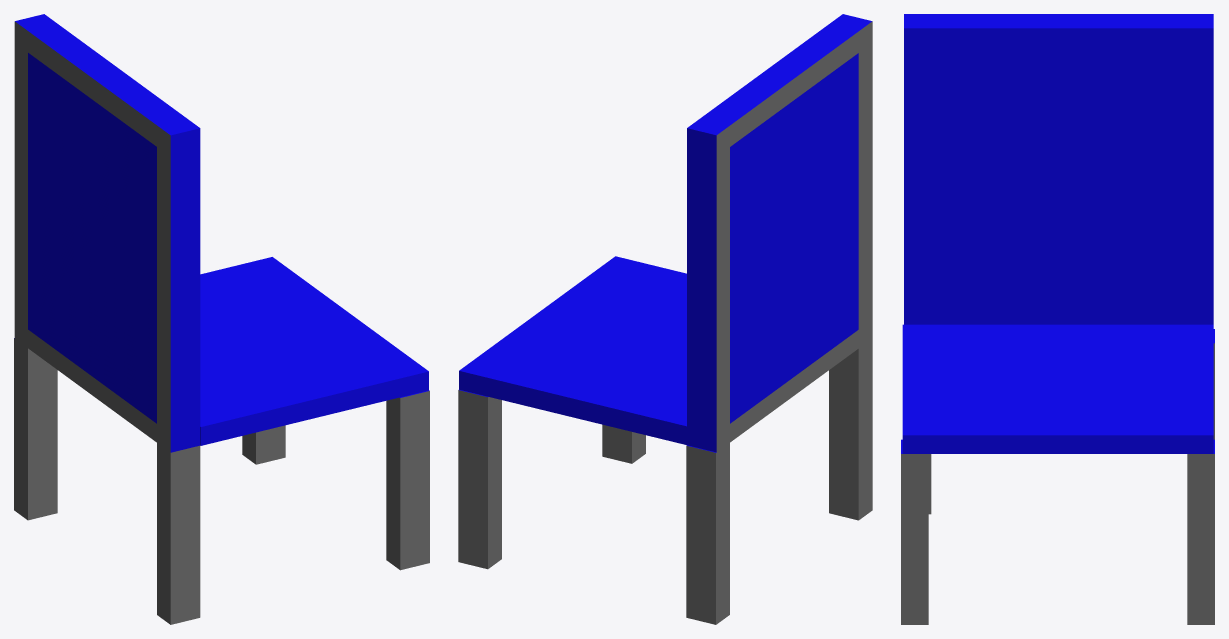
Rendered from BLENDER SILLA 1.fbx.
The picture shows the model from 3 angles, left to right: view 1: azimuth 30°, elevation 25°; view 2: azimuth 150°, elevation 25°; view 3: azimuth 270°, elevation 25°; orthographic projection.
Parts seen in each view (by area): view 1: Cube; view 2: Cube; view 3: Cube.
Boxes of the visible parts, x1,y1,x2,y2 form: Cube: [14, 14, 429, 624]; Cube: [458, 14, 872, 624]; Cube: [901, 14, 1214, 624].
Size of the model in its own units: 226 by 410 by 240.
